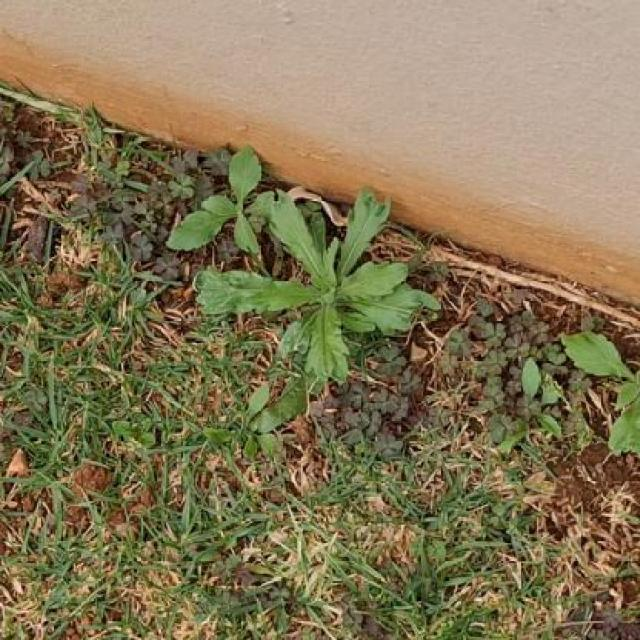weed: (168, 148, 440, 455), (565, 335, 640, 455)
